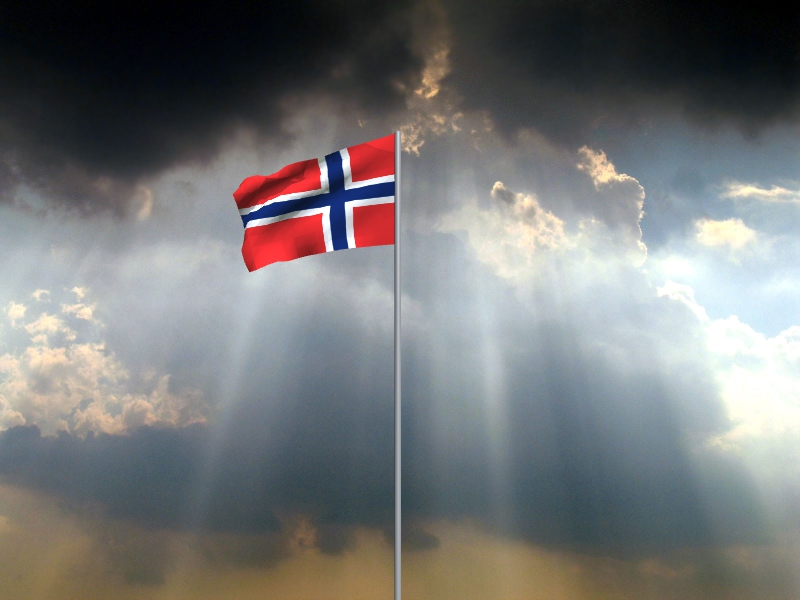no: (232, 134, 395, 274)
